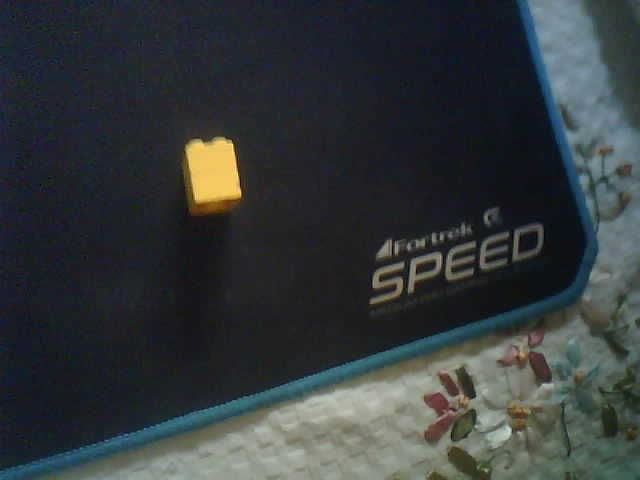lego: (179, 135, 242, 214)
